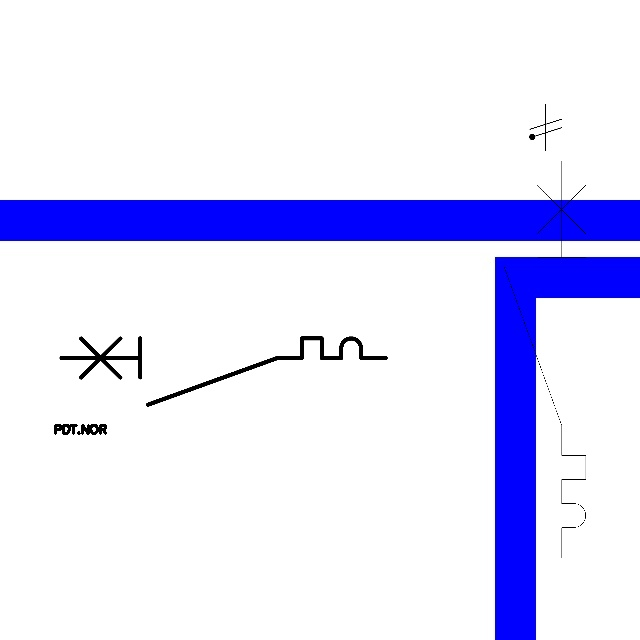interruptor_termomagnetico: (494, 151, 596, 568), (53, 330, 394, 413)
